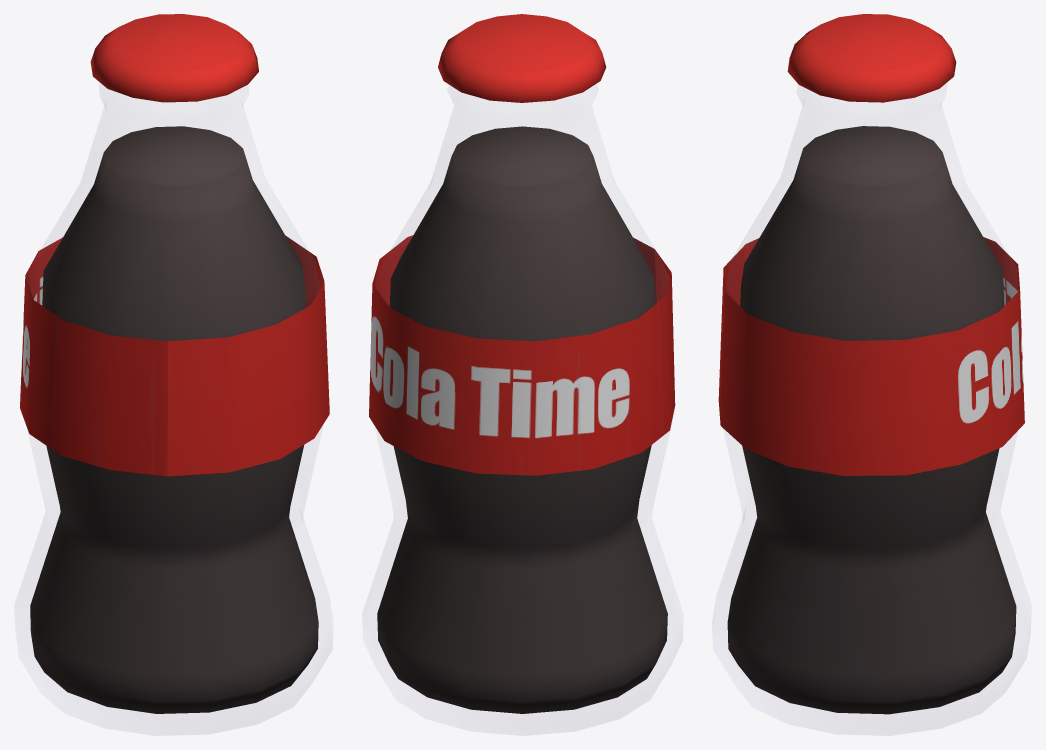
File: coca.fbx
The picture shows the model from 3 angles, left to right: view 1: azimuth 30°, elevation 25°; view 2: azimuth 150°, elevation 25°; view 3: azimuth 270°, elevation 25°; orthographic projection.
Parts seen in each view (by area): view 1: polySurface9; view 2: polySurface9; view 3: polySurface9.
Boxes of the visible parts, x1,y1,x2,y2 form: polySurface9: (20,14,329,713); polySurface9: (369,14,675,713); polySurface9: (718,14,1024,714).
Size of the model in its own units: 63.6 by 141 by 63.6.
Materials: 2 (2 with a texture image).
